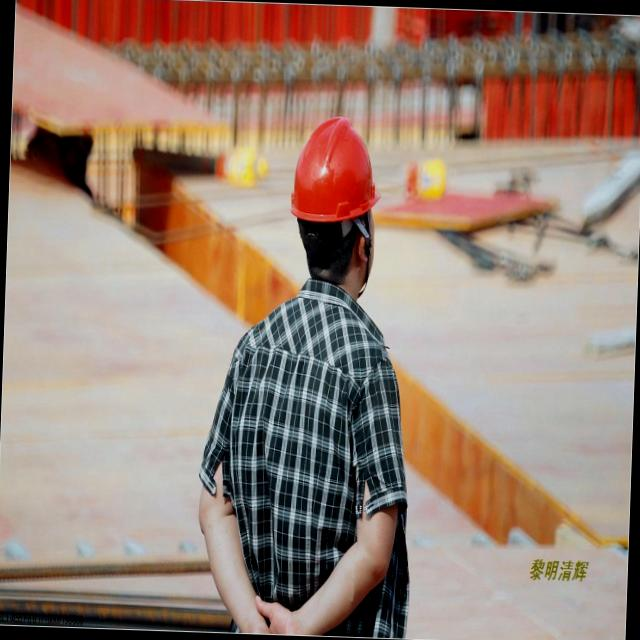helmet: (285, 115, 380, 230)
no-vest: (202, 264, 414, 626)
